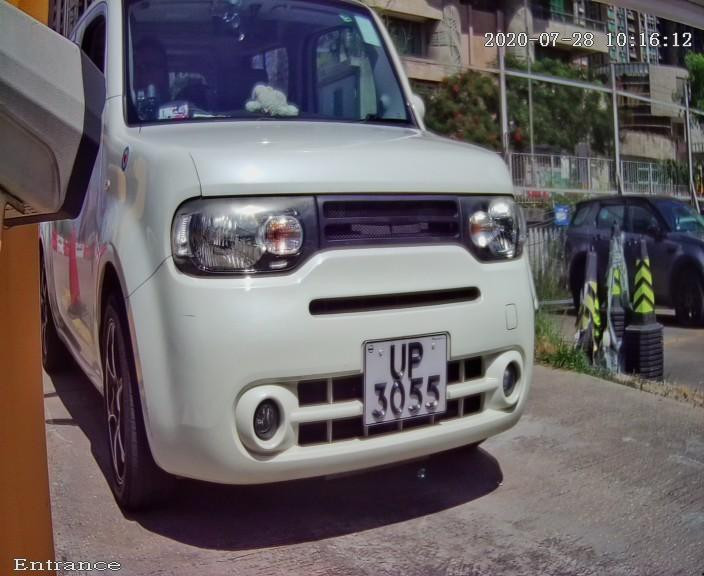privatecar: (32, 16, 585, 541)
